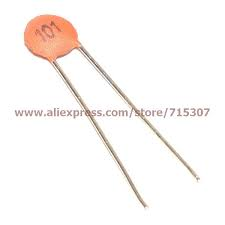ceramic capacitor: (8, 8, 145, 102)
